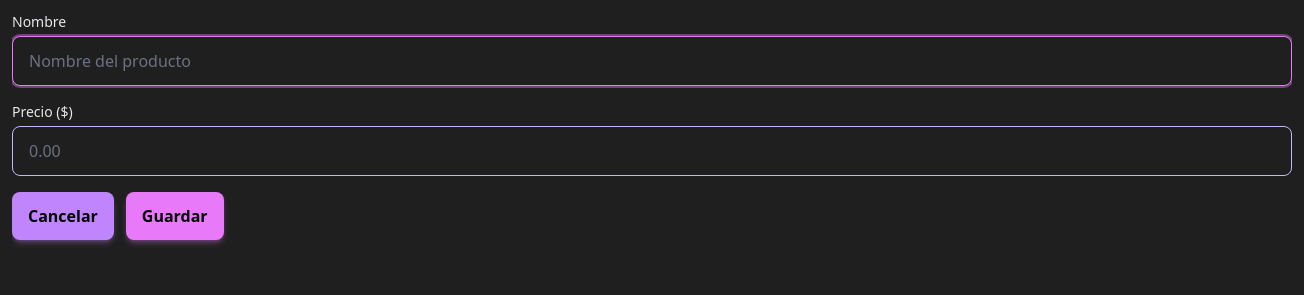
it: ProductoForm › shows error when nombre is empty
This screenshot has width=1304, height=295.
Click the button "Guardar" at (175, 216), box [126,192,224,240]
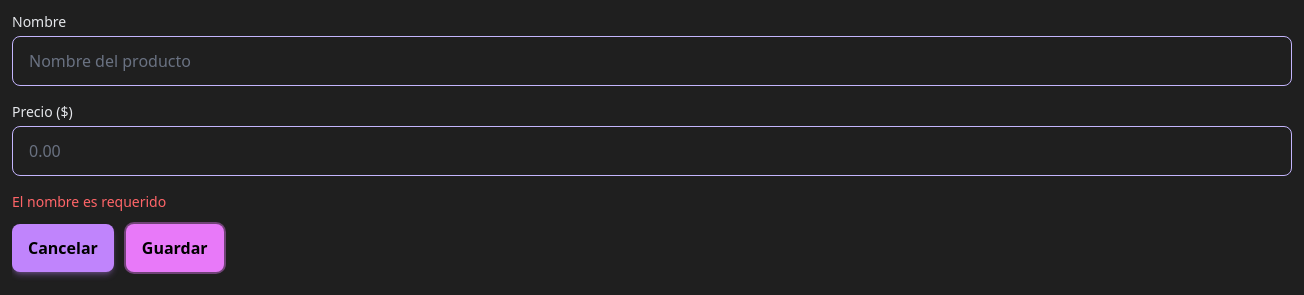
Now the text "El nombre es requerido" is shown, box [12,192,166,211]
